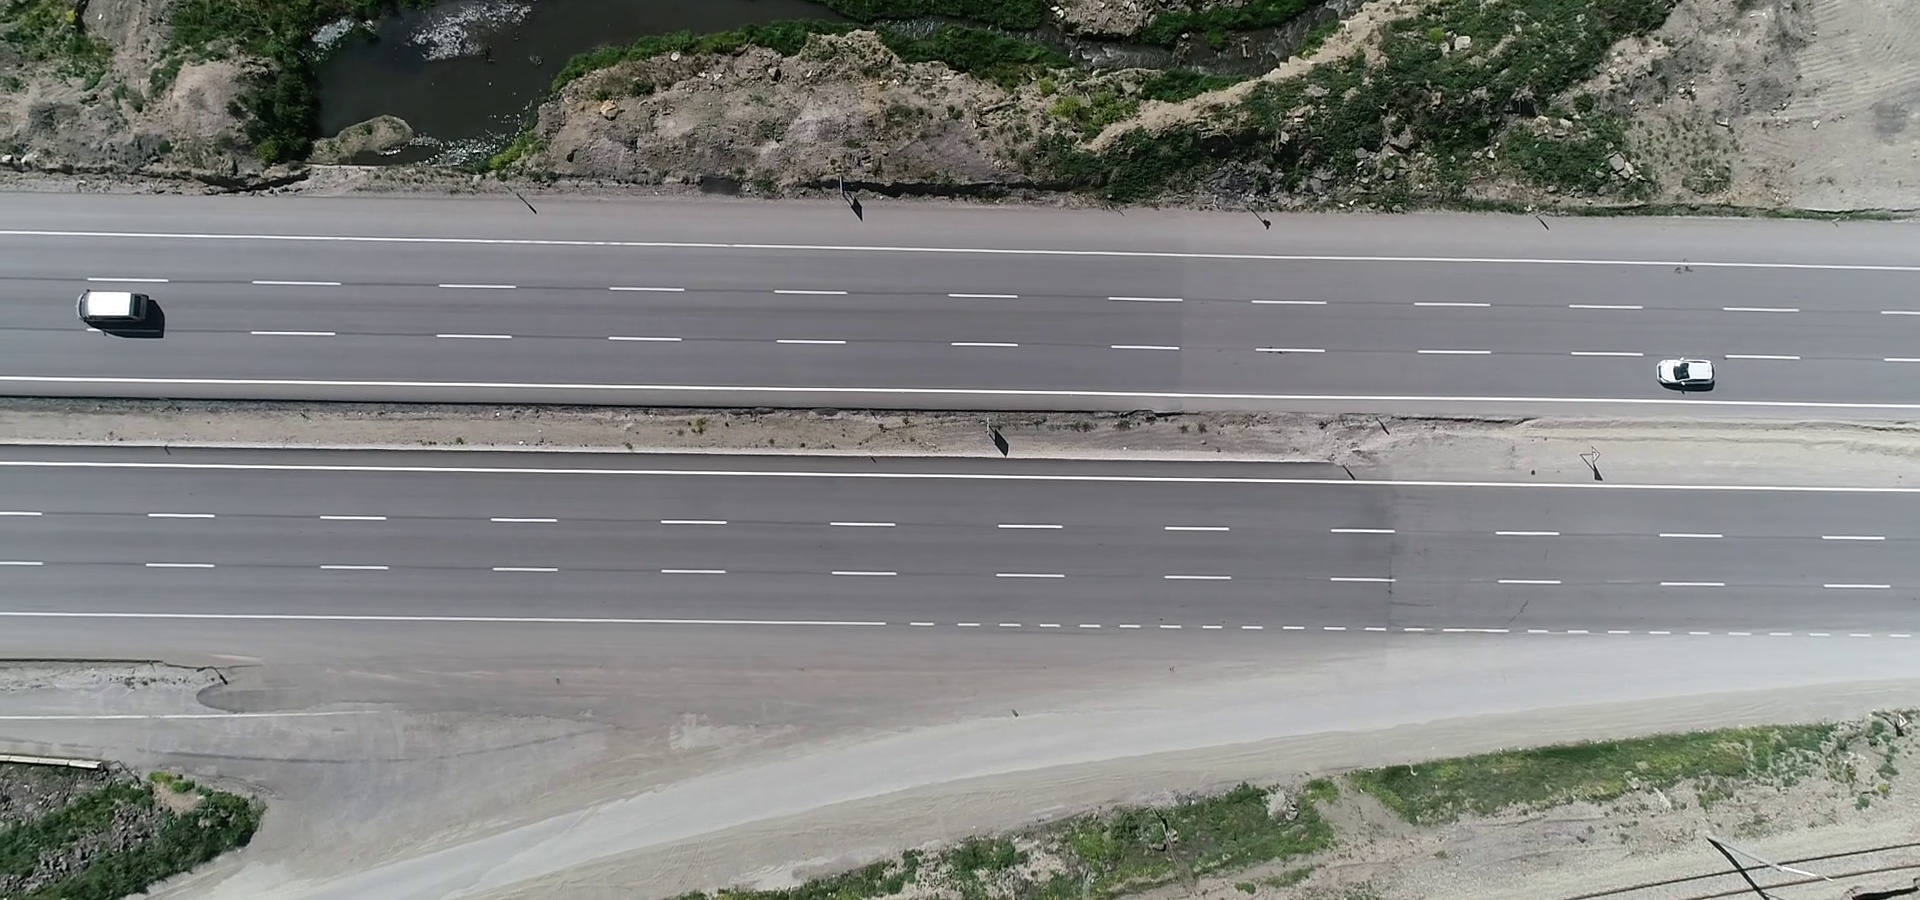arac: (71, 278, 156, 331), (1657, 353, 1720, 394)
